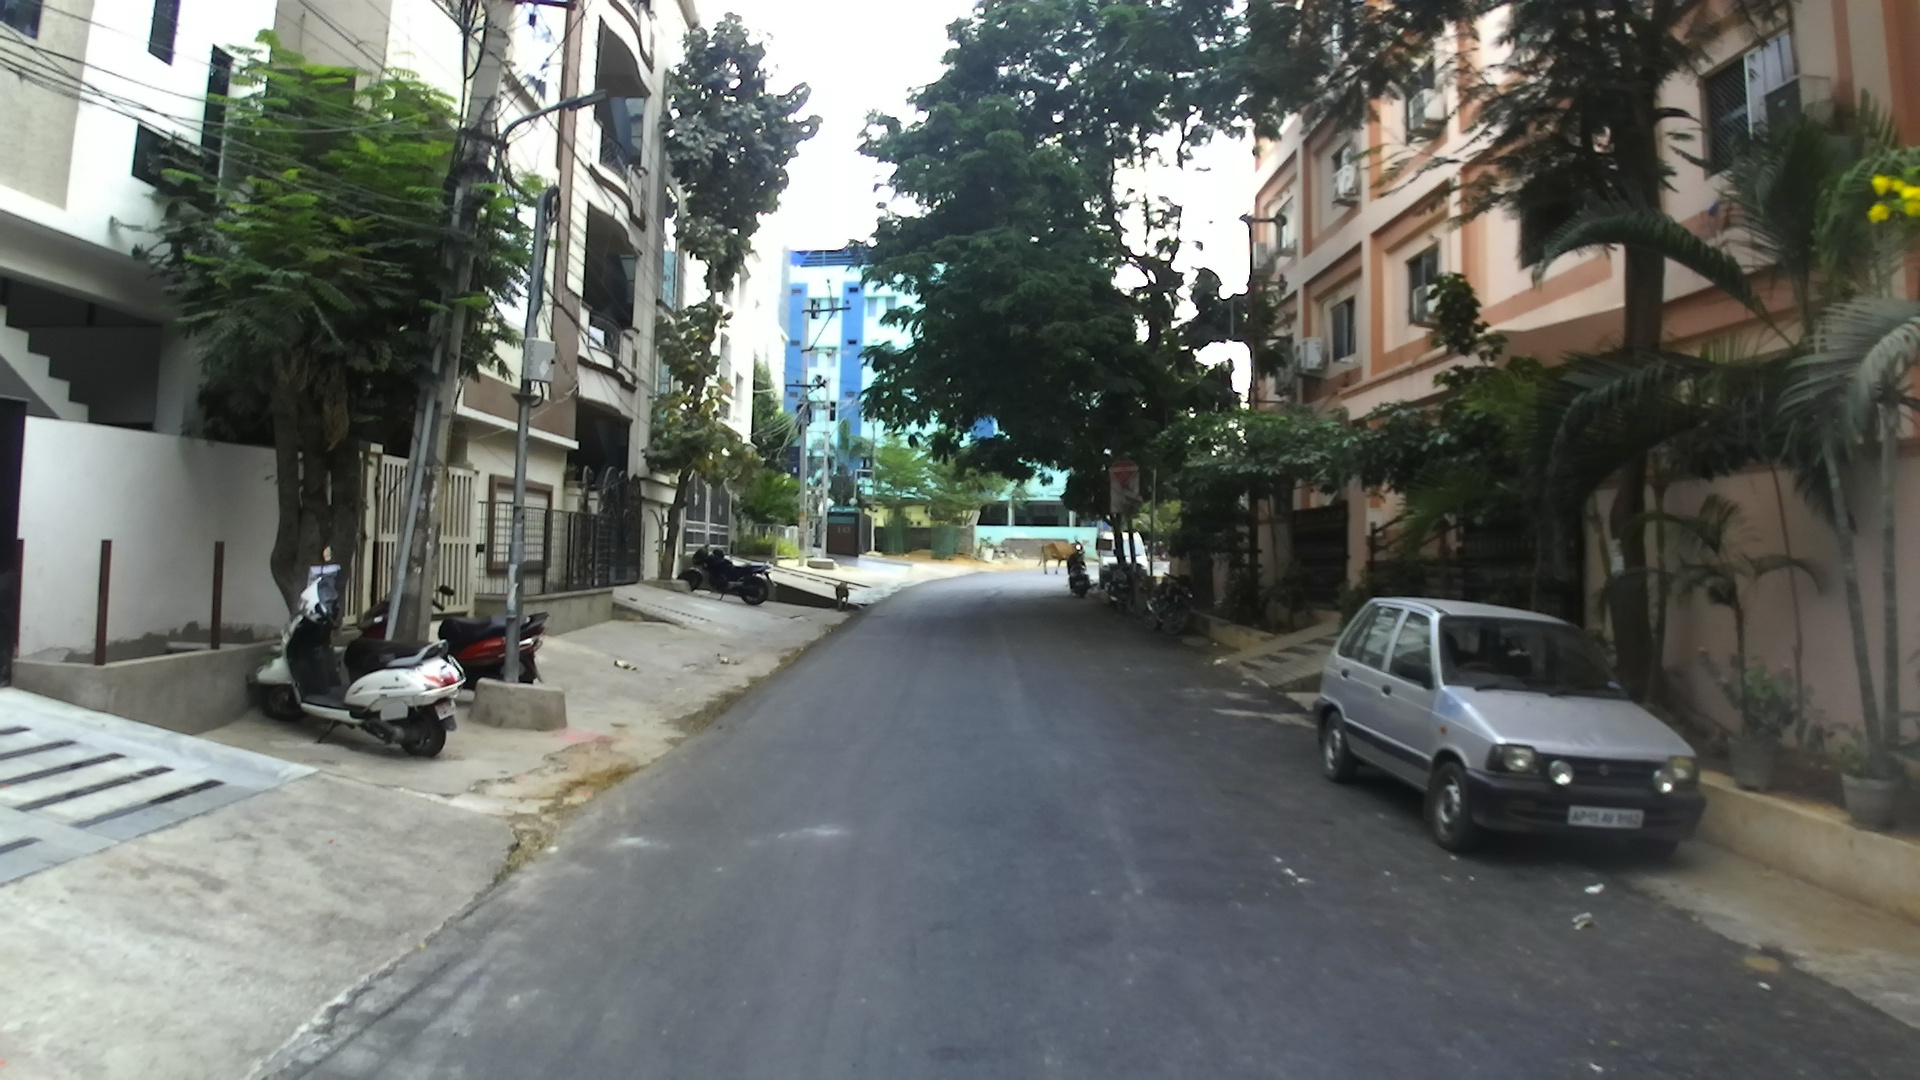vehicle: (1309, 595, 1705, 862)
